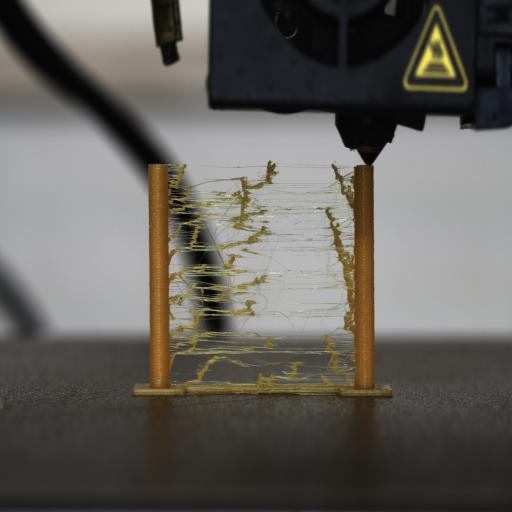stringing: (166, 162, 356, 389)
